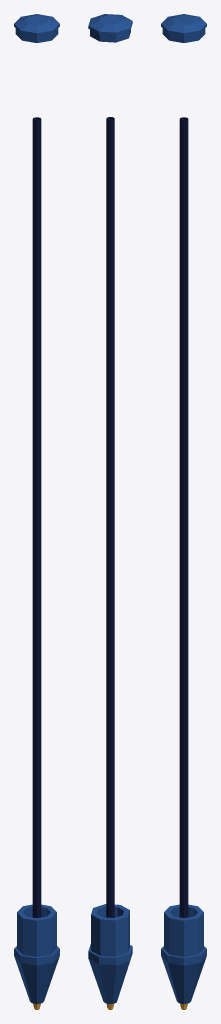
File: opaquepen.glb
3 renders of one model, left to right at view 1: azimuth 90°, elevation 25°; view 2: azimuth 150°, elevation 25°; view 3: azimuth 270°, elevation 25°, orthographic.
Parts seen in each view (by area): view 1: Circle.004, Circle.002, Circle.001; view 2: Circle.004, Circle.002, Circle.001; view 3: Circle.004, Circle.002, Circle.001.
Part boxes in pixels (x1,y1,x2,y2): Circle.004: [32, 117, 41, 917]; Circle.002: [14, 904, 59, 1003]; Circle.001: [14, 14, 59, 42]; Circle.004: [106, 117, 114, 917]; Circle.002: [88, 904, 132, 1003]; Circle.001: [88, 14, 132, 42]; Circle.004: [179, 117, 188, 917]; Circle.002: [161, 904, 206, 1003]; Circle.001: [161, 14, 206, 42].
Size of the model in its own units: 2 by 47.72 by 2.
